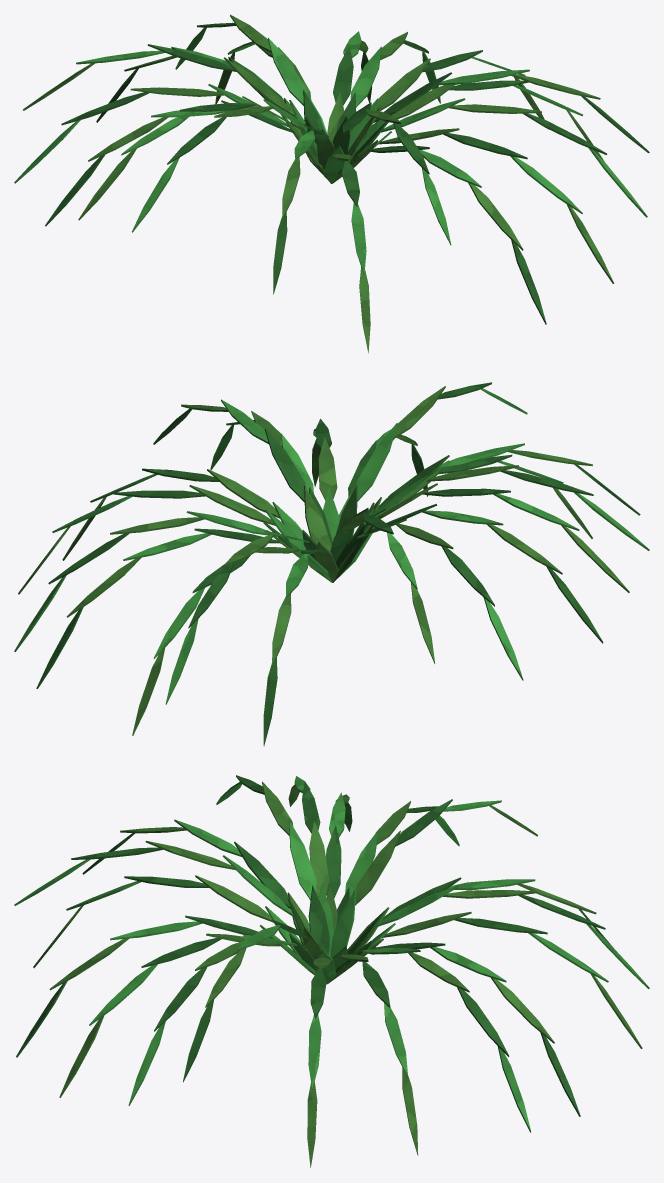
File: fern.glb
3 renders of one model, top to bottom at view 1: azimuth 30°, elevation 25°; view 2: azimuth 150°, elevation 25°; view 3: azimuth 270°, elevation 25°, orthographic. The views are drawn at different scales.
Visible parts, largest first — view 1: plant; view 2: plant; view 3: plant.
Part boxes in pixels (box(x1,y1,x2,y2)): plant: box(14, 14, 649, 353); plant: box(14, 382, 649, 746); plant: box(14, 775, 649, 1167).
Bounding box in the file's own units: 1.68 × 0.5395 × 1.67.
3 materials, 3 textured.
